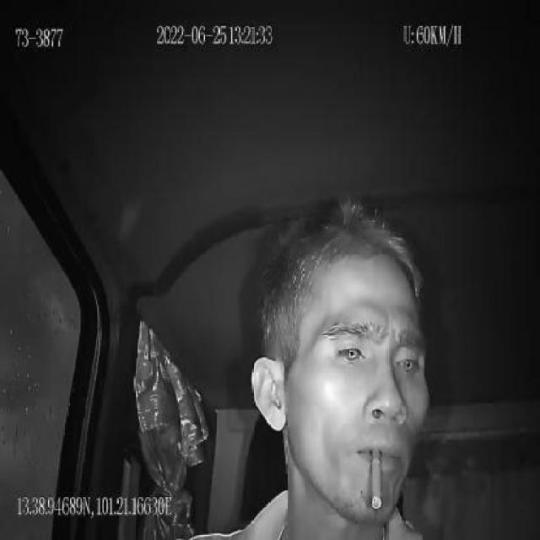smoking: (370, 444, 382, 508)
